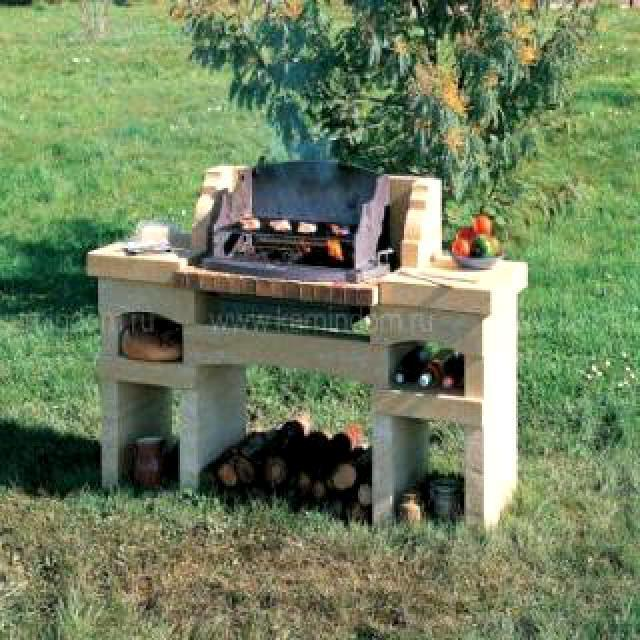Fire: (324, 234, 351, 263)
Smoke: (249, 116, 356, 232)
